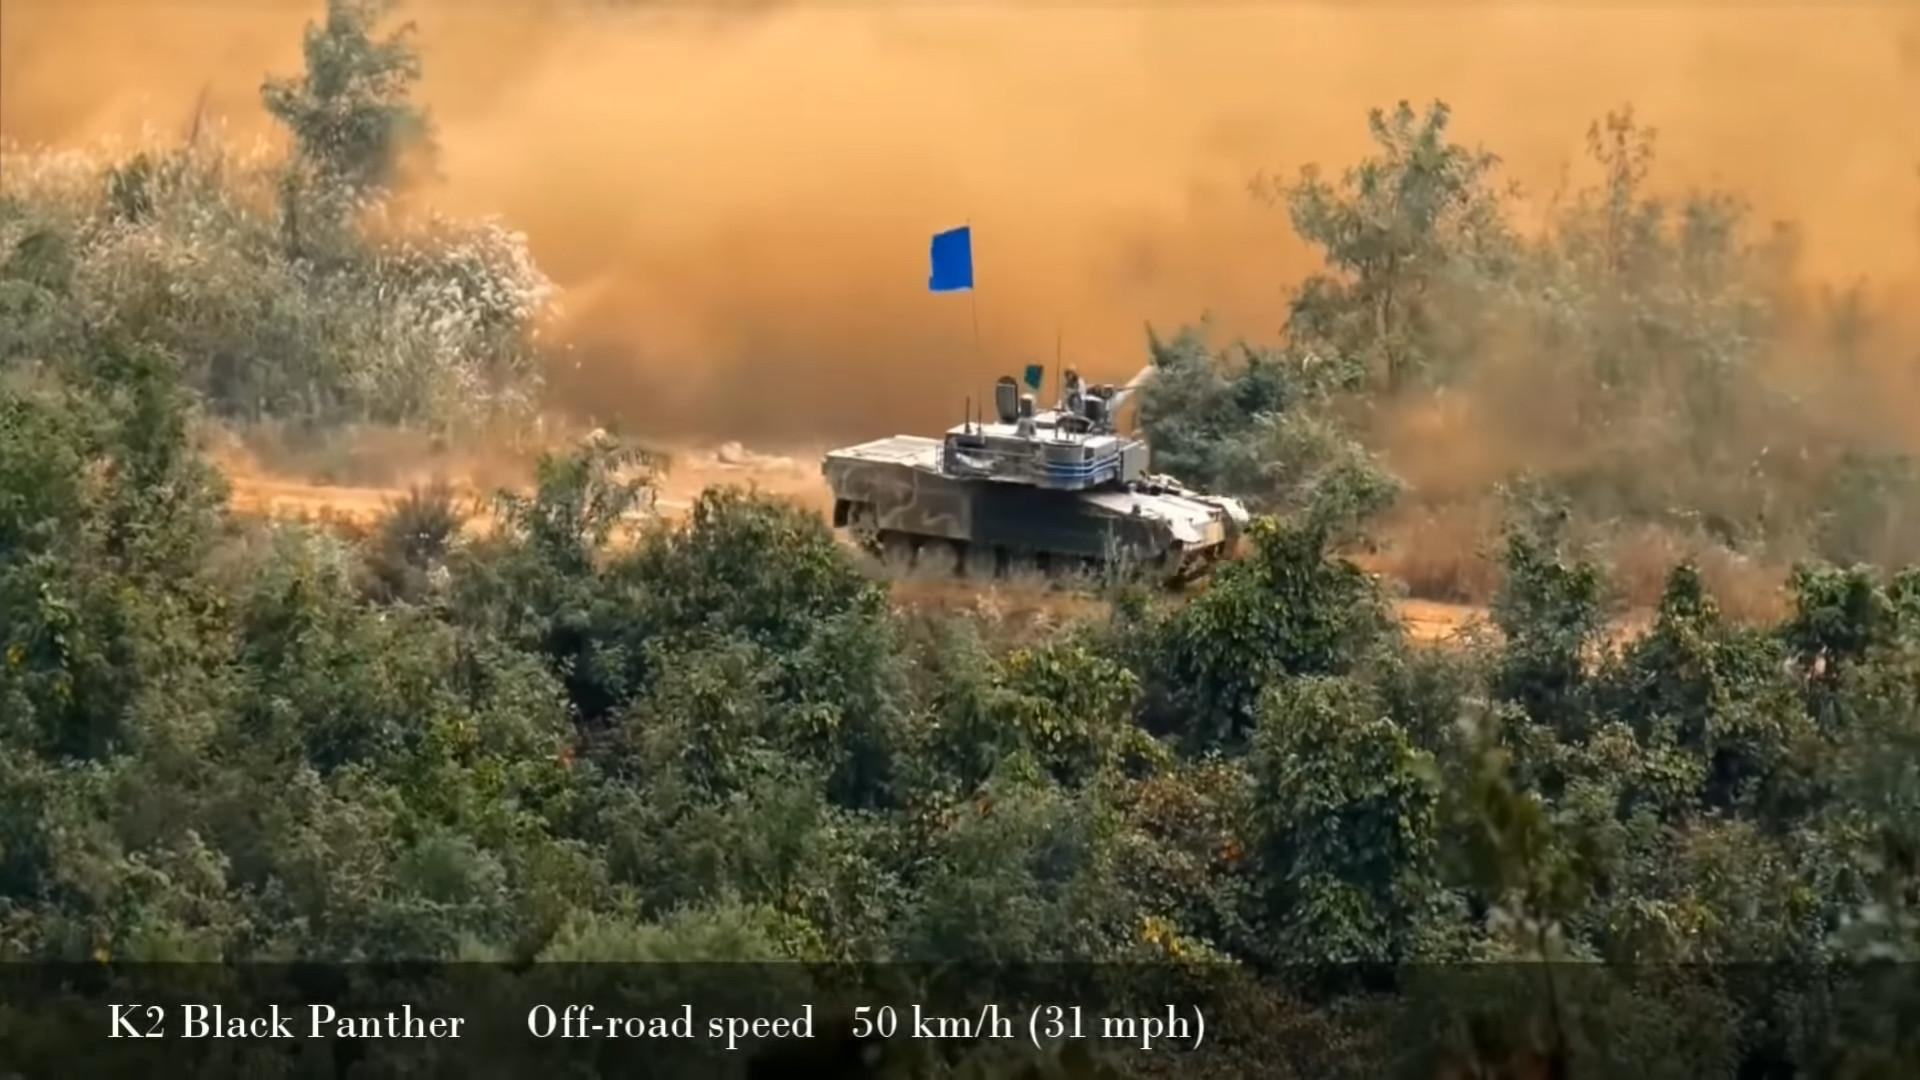tank: (820, 369, 1246, 593)
